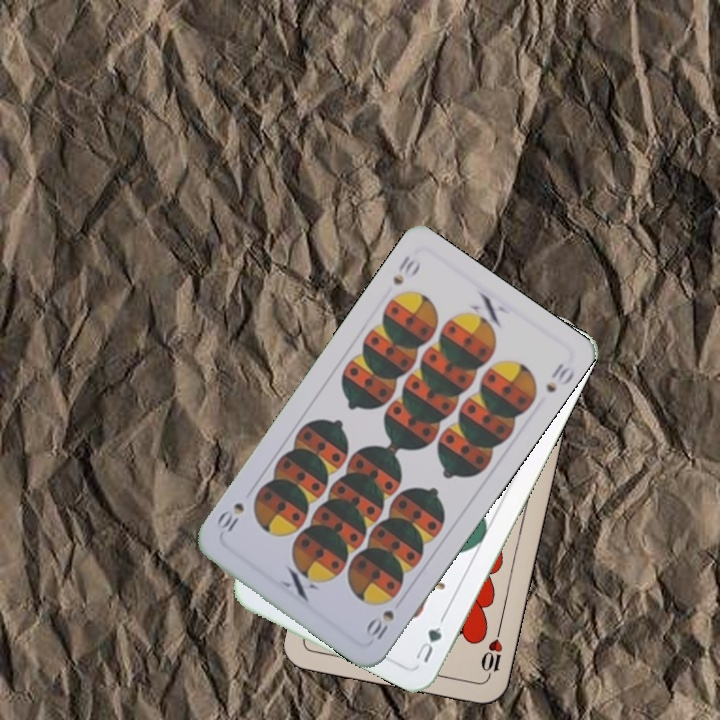GU: (411, 622, 445, 666)
H10: (476, 624, 505, 683)
S10: (361, 606, 397, 645), (388, 251, 424, 288)
